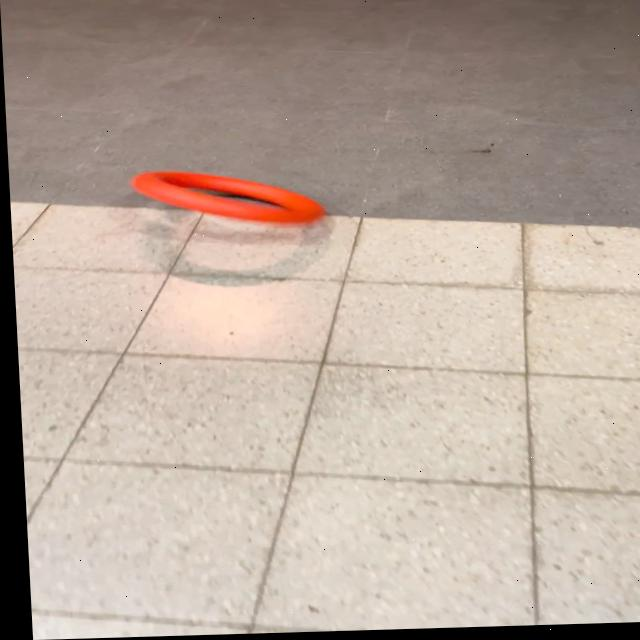note: (126, 166, 328, 233)
